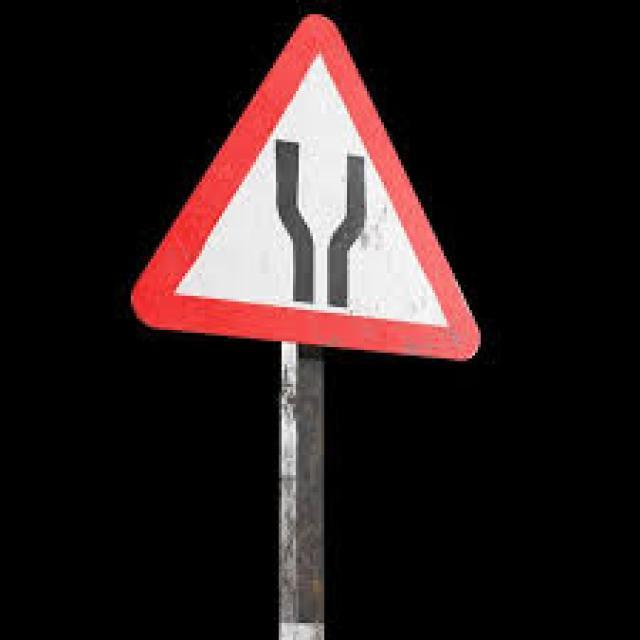road widens ahead: (127, 16, 479, 364)
